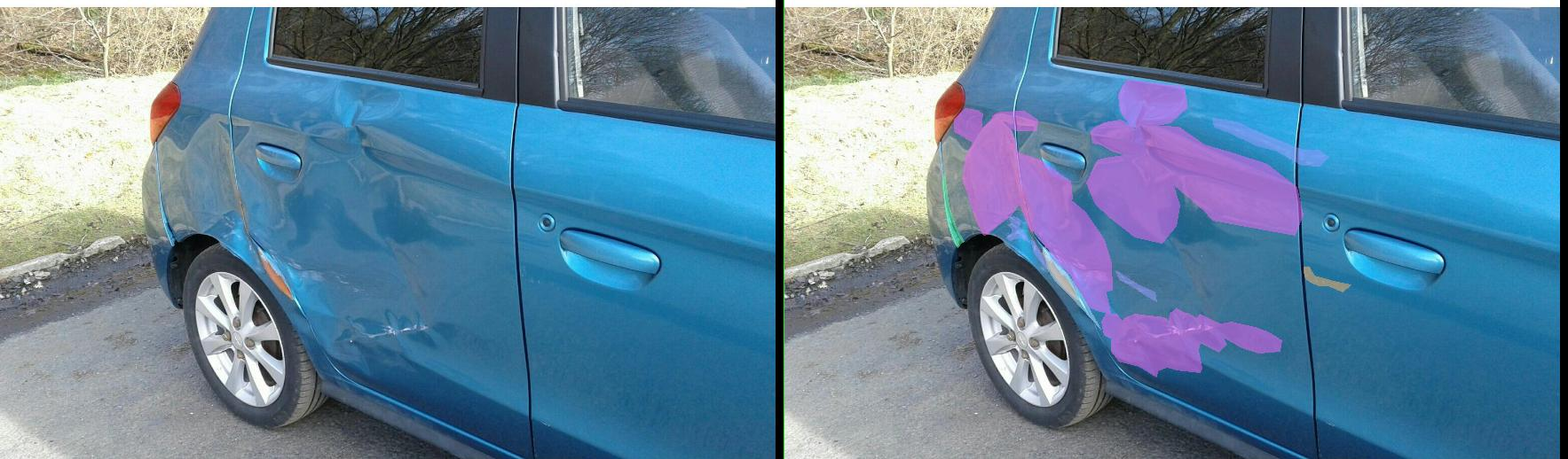Broken part: (316, 172, 359, 247)
Corrosion: (519, 255, 632, 329), (513, 246, 595, 303)
Dent: (719, 126, 1037, 235), (653, 308, 994, 377), (604, 152, 790, 243), (494, 195, 655, 294), (357, 116, 472, 235), (456, 152, 575, 230), (668, 80, 806, 127), (613, 120, 737, 156), (570, 268, 652, 314), (339, 108, 396, 141), (416, 111, 506, 130), (634, 314, 682, 340)
Paint chip: (1039, 267, 1133, 292)
Scratch: (856, 118, 1089, 166), (662, 270, 744, 301), (728, 321, 861, 339), (492, 239, 524, 268), (442, 223, 488, 242), (531, 245, 565, 267), (447, 216, 474, 226)
